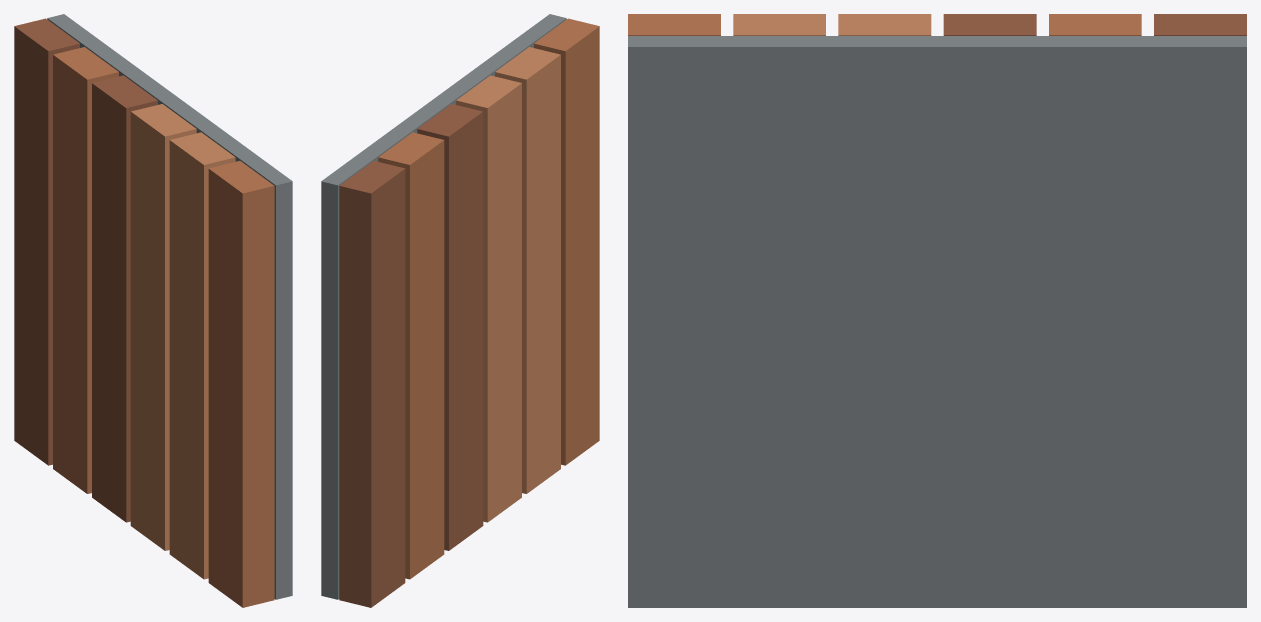
The model's file is Mur.glb.
3 renders of one model, left to right at view 1: azimuth 30°, elevation 25°; view 2: azimuth 150°, elevation 25°; view 3: azimuth 270°, elevation 25°, orthographic. The views are drawn at different scales.
Parts seen in each view (by area): view 1: Cube.008; view 2: Cube.008; view 3: Cube.008.
Part boxes in pixels (x1,y1,x2,y2): Cube.008: [14, 14, 292, 607]; Cube.008: [321, 14, 599, 607]; Cube.008: [628, 14, 1246, 607].
Size of the model in its own units: 0.2525 by 2 by 2.
